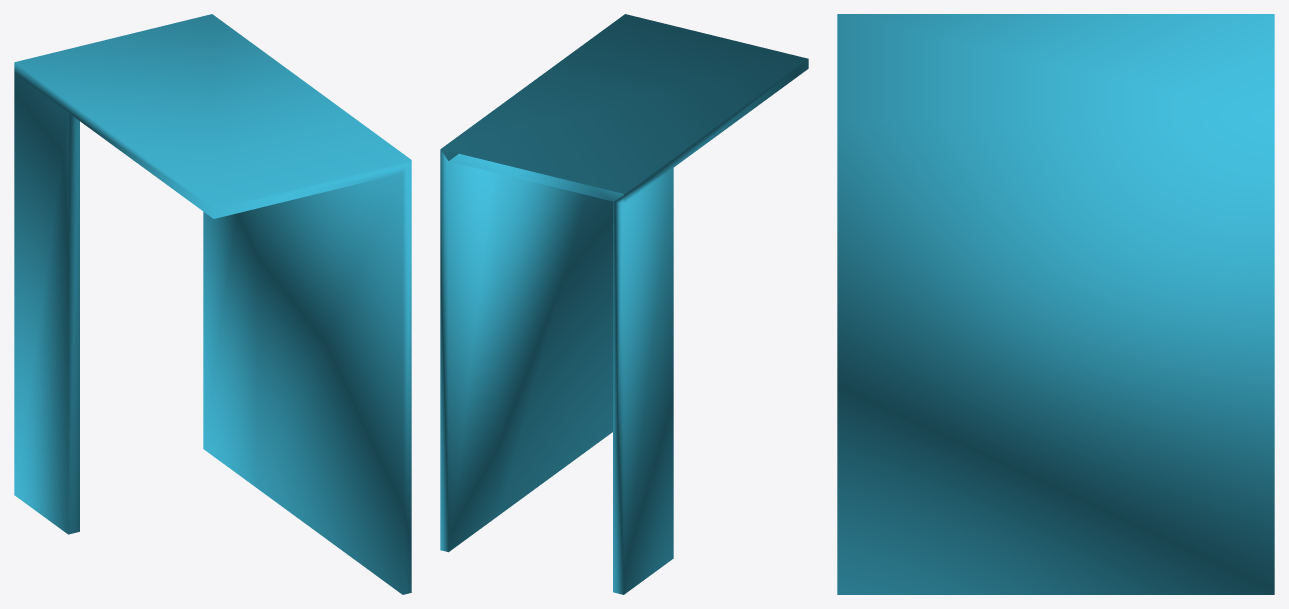
Rendered from glass2.fbx.
3 views of the same model, side by side, from view 1: azimuth 30°, elevation 25°; view 2: azimuth 150°, elevation 25°; view 3: azimuth 270°, elevation 25° (orthographic). The views are drawn at different scales.
Parts seen in each view (by area): view 1: Plane_030; view 2: Plane_030; view 3: Plane_030.
Boxes of the visible parts, <box> form: Plane_030: <box>14,14,411,594</box>; Plane_030: <box>440,14,808,594</box>; Plane_030: <box>837,14,1274,594</box>.
Size of the model in its own units: 5.5 by 11.5 by 9.6.
1 material, 1 textured.
